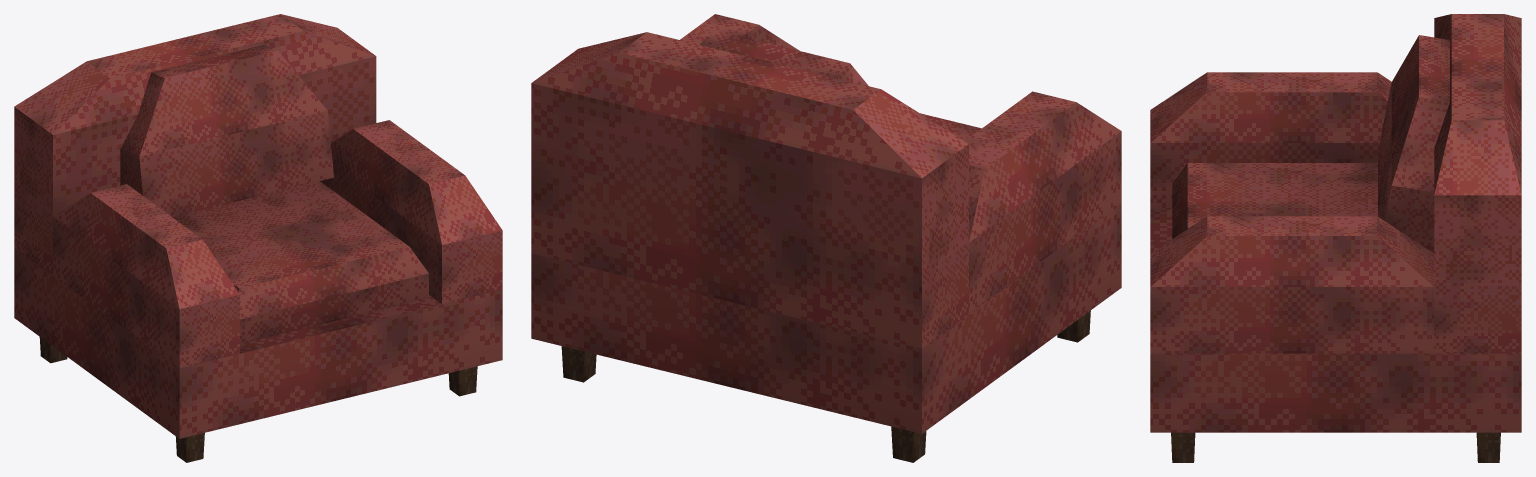
Rendered from armchair_red.glb.
3 renders of one model, left to right at view 1: azimuth 30°, elevation 25°; view 2: azimuth 150°, elevation 25°; view 3: azimuth 270°, elevation 25°, orthographic. The views are drawn at different scales.
Visible parts, largest first — view 1: armchair_red; view 2: armchair_red; view 3: armchair_red.
Part boxes in pixels (<box>): armchair_red: <box>14,14,502,462</box>; armchair_red: <box>531,14,1121,462</box>; armchair_red: <box>1150,14,1521,462</box>.
Size of the model in its own units: 0.96 by 0.8029 by 0.85.
Materials: 1 (1 with a texture image).
